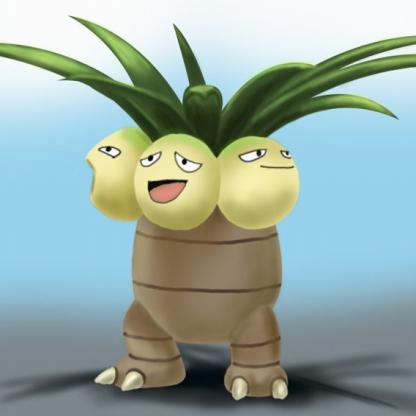Exeggutor: (1, 12, 416, 416)
